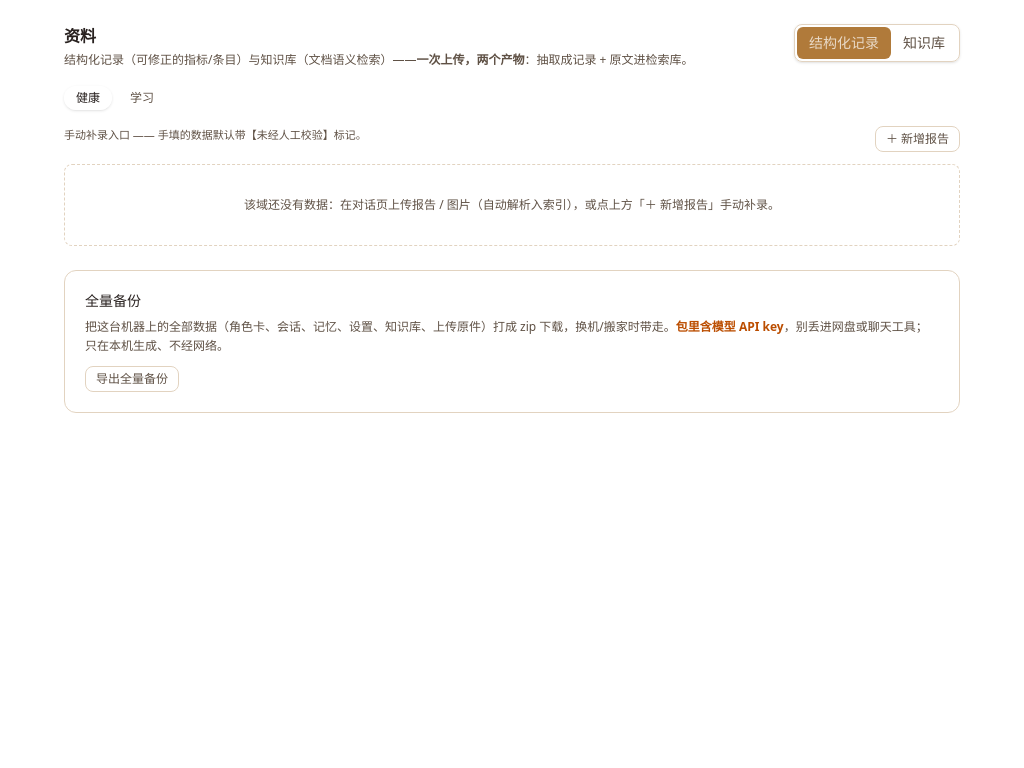
Scenario: 通用域分页（2026-10-30 交互审计的回归钉） › 多取一条探下一页：一屏 20 条、翻页带 offset、换域重挂翻页归零
Click the button "学习" at (142, 98), box x1=118 y1=86 x2=166 y2=110
(page scrolled)
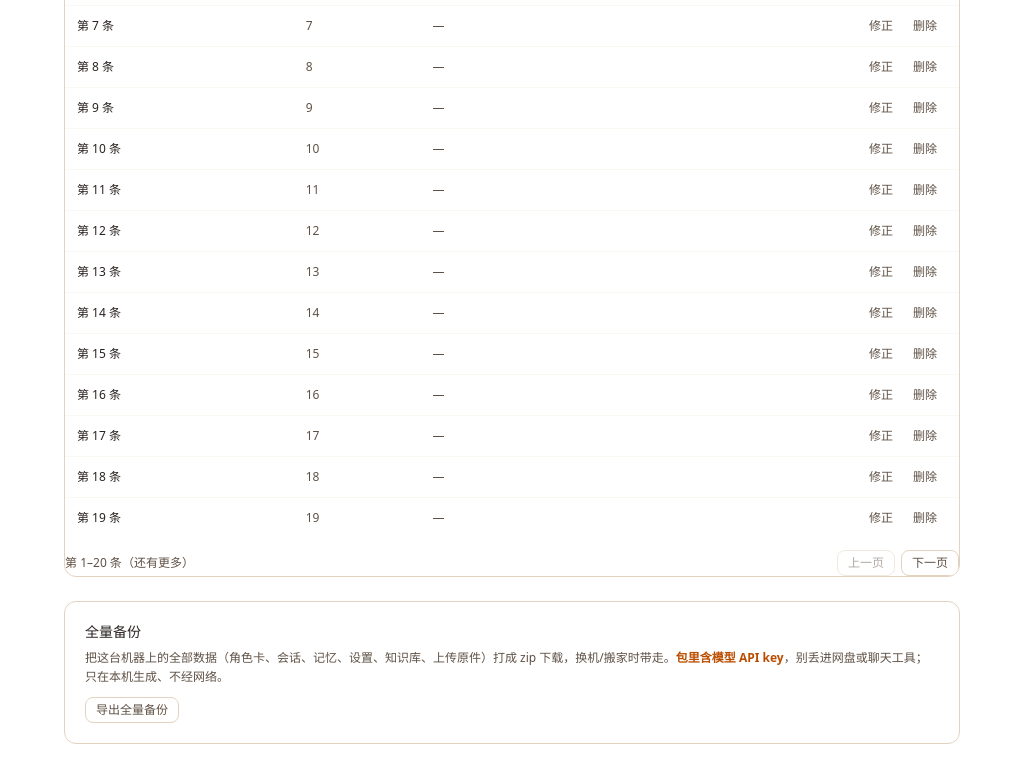
expect the text "第 21–25 条" is not shown: met
expect the text "第 1–20 条（还有更多）" is shown: met, box x1=65 y1=554 x2=194 y2=570
Click the button "下一页" at (930, 562), box x1=901 y1=550 x2=959 y2=576
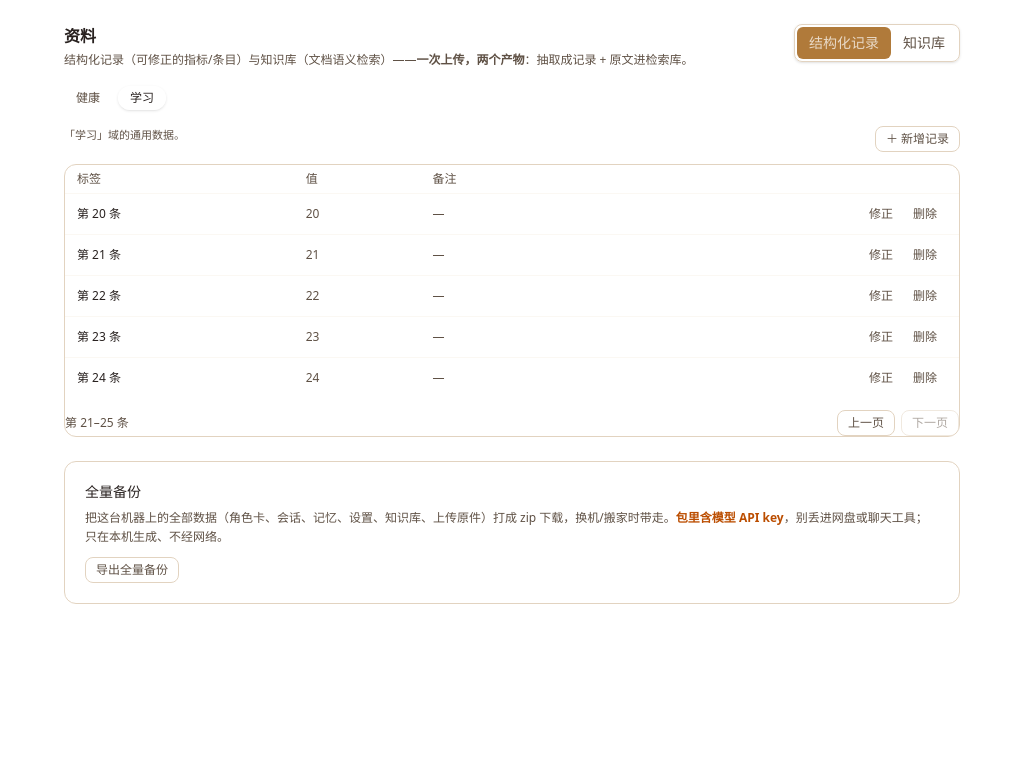
expect the text "第 21–25 条" is shown: met, box x1=65 y1=414 x2=129 y2=430
expect the button "下一页" is disabled: met, box x1=901 y1=410 x2=959 y2=436
